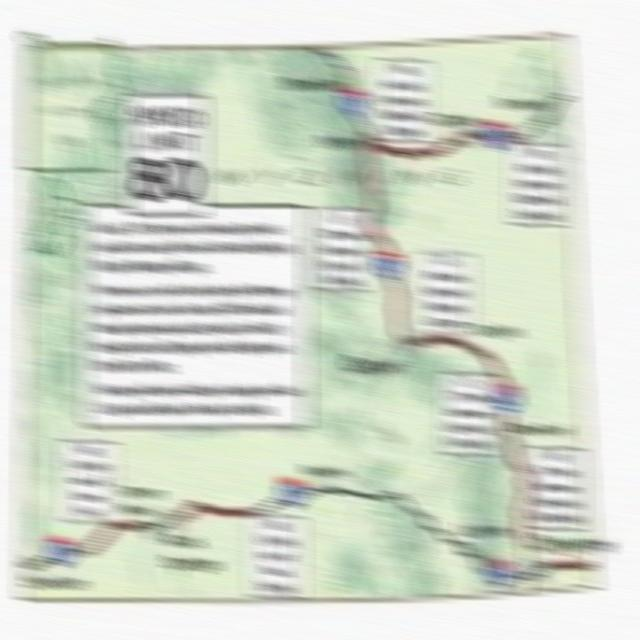speedLimit80: (124, 92, 209, 218)
